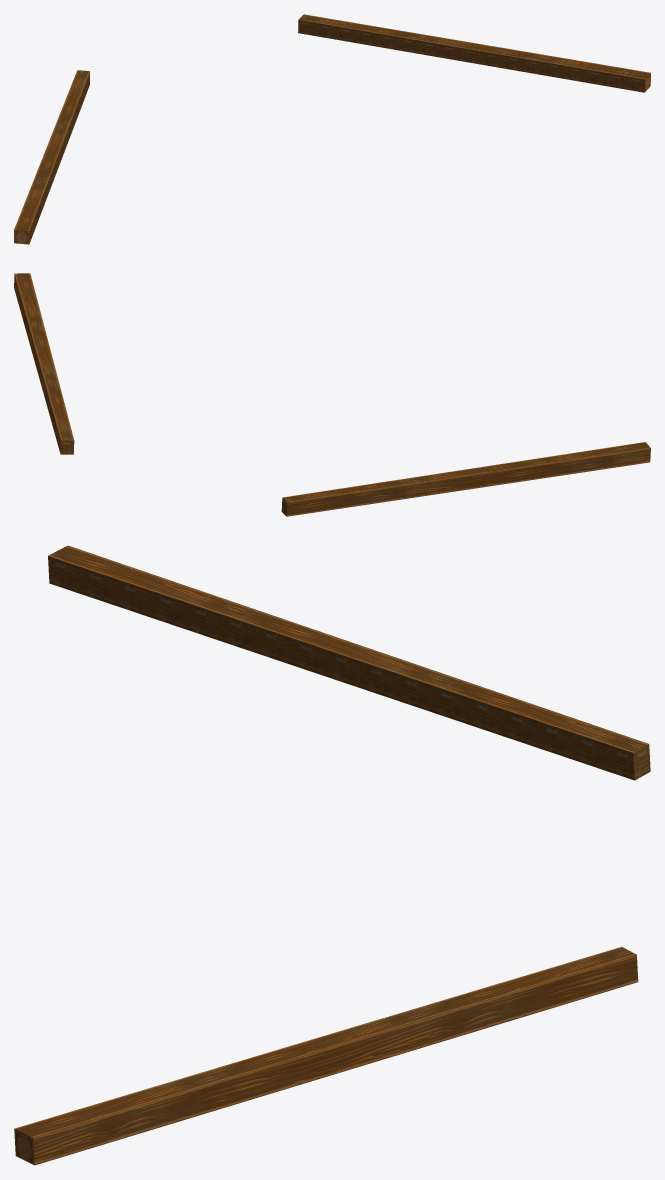
3 views of the same model, one above another, from view 1: azimuth 30°, elevation 25°; view 2: azimuth 150°, elevation 25°; view 3: azimuth 270°, elevation 25° (orthographic). The views are drawn at different scales.
Parts seen in each view (by area): view 1: Cube.2027; view 2: Cube.2027; view 3: Cube.2027.
Boxes of the visible parts, x1,y1,x2,y2 form: Cube.2027: (14,14,650,244); Cube.2027: (14,273,650,516); Cube.2027: (14,545,650,1165).
Size of the model in its own units: 1854 by 67.91 by 813.
Materials: 1 (1 with a texture image).
